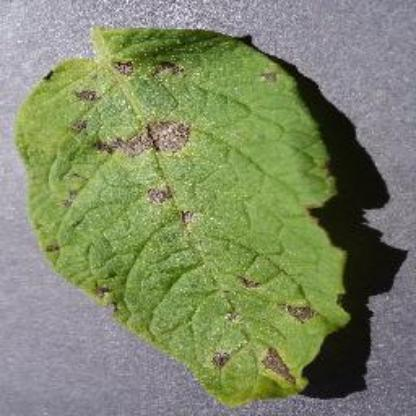Early-Blight: (18, 21, 370, 406)
